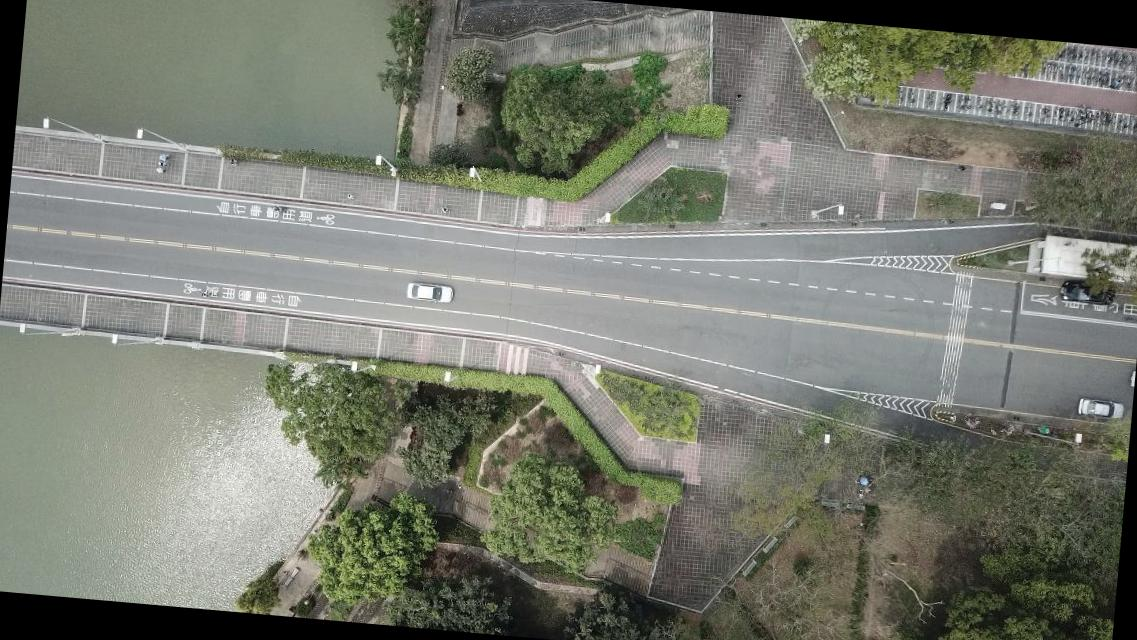vehicle: (1058, 280, 1116, 308), (405, 281, 454, 305), (1077, 398, 1125, 422)
